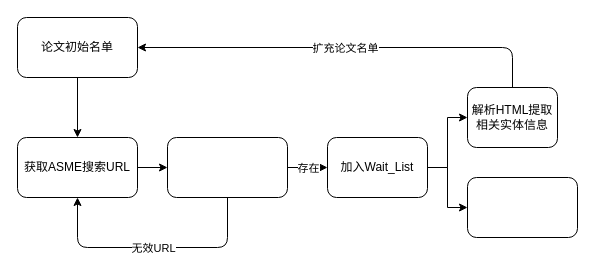
The diagram is 595 pixels wide and 273 high, and some of its shapes have lost their labels. Here are the shapes that lost their labels. From the top down, the centre of each, then its label:
At (x=227, y=167): "在返回信息中提取检索到的论文的URL".
At (x=522, y=207): "监听网络请求获取动态渲染的信息".
